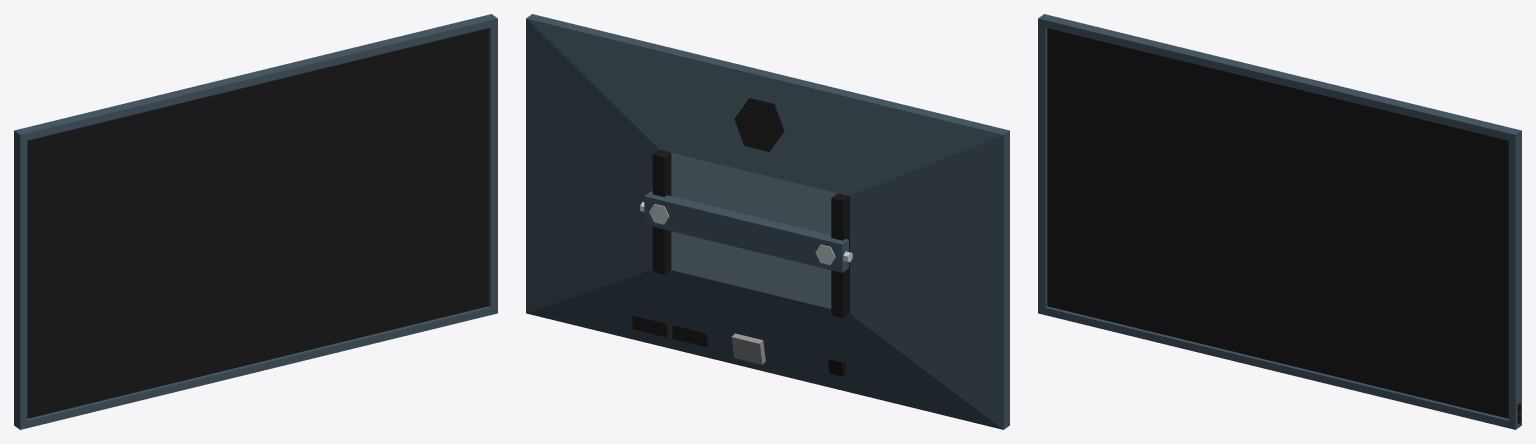
The model's file is Flat Screen TV.glb.
3 views of the same model, side by side, from view 1: azimuth 30°, elevation 25°; view 2: azimuth 150°, elevation 25°; view 3: azimuth 330°, elevation 25° (orthographic).
Parts seen in each view (by area): view 1: group1454904968; view 2: group1454904968, group596176051, group1601593260, group1257628551, group1840578182, group207519990, group1468930754, group1923268096; view 3: group1454904968.
Boxes of the visible parts, x1,y1,x2,y2 form: group1454904968: (14,14,497,429); group1454904968: (526,14,1009,429); group596176051: (644,191,848,272); group1601593260: (734,98,784,151); group1257628551: (652,150,671,274); group1840578182: (831,193,849,318); group207519990: (731,333,765,364); group1468930754: (632,315,668,337); group1923268096: (672,325,708,346); group1454904968: (1038,14,1521,429).
Bounding box in the file's own units: 4.06 × 2.39 × 0.4063.
